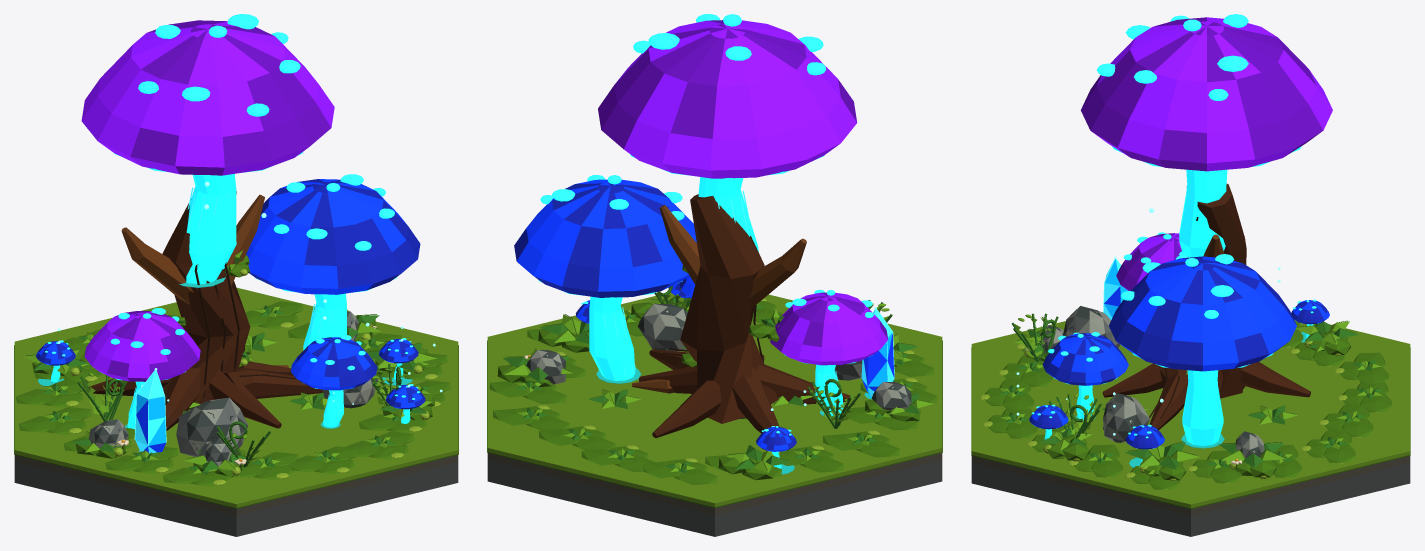
The model's file is hex_bioluminescent_grove.glb.
The picture shows the model from 3 angles, left to right: view 1: azimuth 30°, elevation 25°; view 2: azimuth 150°, elevation 25°; view 3: azimuth 270°, elevation 25°; orthographic projection. The views are drawn at different scales.
Parts seen in each view (by area): view 1: Broad faceted mushroom cap.002, Standard hex meadow top.001, Broad faceted mushroom cap.003, Standard hex stone foundation.001, Ancient twisting trunk.001, Broad faceted mushroom cap.004, Curving luminous mushroom stem.002, Standard hex earth layer.001, Broad faceted mushroom cap.005, Angular mossy forest boulder.001, Faceted magical crystal.001, Broken woodland branch.002 (+12 smaller); view 2: Standard hex meadow top.001, Broad faceted mushroom cap.002, Broad faceted mushroom cap.003, Ancient twisting trunk.001, Standard hex stone foundation.001, Broad faceted mushroom cap.004, Standard hex earth layer.001, Curving luminous mushroom stem.003, Angular mossy forest boulder.002, Tree buttress root.006, Tree buttress root.007, Curving luminous mushroom stem.002 (+9 smaller); view 3: Broad faceted mushroom cap.002, Standard hex meadow top.001, Broad faceted mushroom cap.003, Standard hex stone foundation.001, Standard hex earth layer.001, Broad faceted mushroom cap.005, Curving luminous mushroom stem.002, Curving luminous mushroom stem.003, Ancient twisting trunk.001, Broad faceted mushroom cap.004, Angular mossy forest boulder.002, Gnarled exposed root.001 (+8 smaller).
Part boxes in pixels (x1=…): Broad faceted mushroom cap.002: x1=81, y1=20, x2=334, y2=175; Standard hex meadow top.001: x1=14, y1=287, x2=458, y2=507; Broad faceted mushroom cap.003: x1=246, y1=179, x2=420, y2=294; Standard hex stone foundation.001: x1=14, y1=462, x2=458, y2=536; Ancient twisting trunk.001: x1=162, y1=191, x2=250, y2=406; Broad faceted mushroom cap.004: x1=84, y1=311, x2=200, y2=381; Curving luminous mushroom stem.002: x1=186, y1=174, x2=236, y2=283; Standard hex earth layer.001: x1=14, y1=455, x2=458, y2=515; Broad faceted mushroom cap.005: x1=291, y1=337, x2=377, y2=390; Angular mossy forest boulder.001: x1=176, y1=397, x2=248, y2=456; Faceted magical crystal.001: x1=135, y1=371, x2=165, y2=453; Broken woodland branch.002: x1=121, y1=227, x2=193, y2=304; Standard hex meadow top.001: x1=487, y1=292, x2=942, y2=506; Broad faceted mushroom cap.002: x1=598, y1=20, x2=857, y2=178; Broad faceted mushroom cap.003: x1=514, y1=179, x2=696, y2=297; Ancient twisting trunk.001: x1=680, y1=194, x2=778, y2=423; Standard hex stone foundation.001: x1=487, y1=460, x2=942, y2=536; Broad faceted mushroom cap.004: x1=770, y1=292, x2=887, y2=365; Standard hex earth layer.001: x1=487, y1=453, x2=942, y2=515; Curving luminous mushroom stem.003: x1=589, y1=296, x2=635, y2=380; Angular mossy forest boulder.002: x1=637, y1=303, x2=687, y2=351; Tree buttress root.006: x1=652, y1=380, x2=721, y2=437; Tree buttress root.007: x1=732, y1=367, x2=779, y2=433; Curving luminous mushroom stem.002: x1=698, y1=177, x2=758, y2=251; Broad faceted mushroom cap.002: x1=1080, y1=17, x2=1332, y2=171; Standard hex meadow top.001: x1=971, y1=312, x2=1410, y2=507; Broad faceted mushroom cap.003: x1=1109, y1=256, x2=1296, y2=371; Standard hex stone foundation.001: x1=971, y1=463, x2=1410, y2=536; Standard hex earth layer.001: x1=971, y1=456, x2=1410, y2=516; Broad faceted mushroom cap.005: x1=1042, y1=333, x2=1128, y2=385; Curving luminous mushroom stem.002: x1=1179, y1=169, x2=1227, y2=257; Curving luminous mushroom stem.003: x1=1182, y1=370, x2=1223, y2=445; Ancient twisting trunk.001: x1=1197, y1=183, x2=1246, y2=398; Broad faceted mushroom cap.004: x1=1116, y1=233, x2=1181, y2=290; Angular mossy forest boulder.002: x1=1103, y1=393, x2=1149, y2=442; Gnarled exposed root.001: x1=1149, y1=366, x2=1188, y2=430.
Size of the model in its own units: 5.11 by 4.45 by 4.42.
